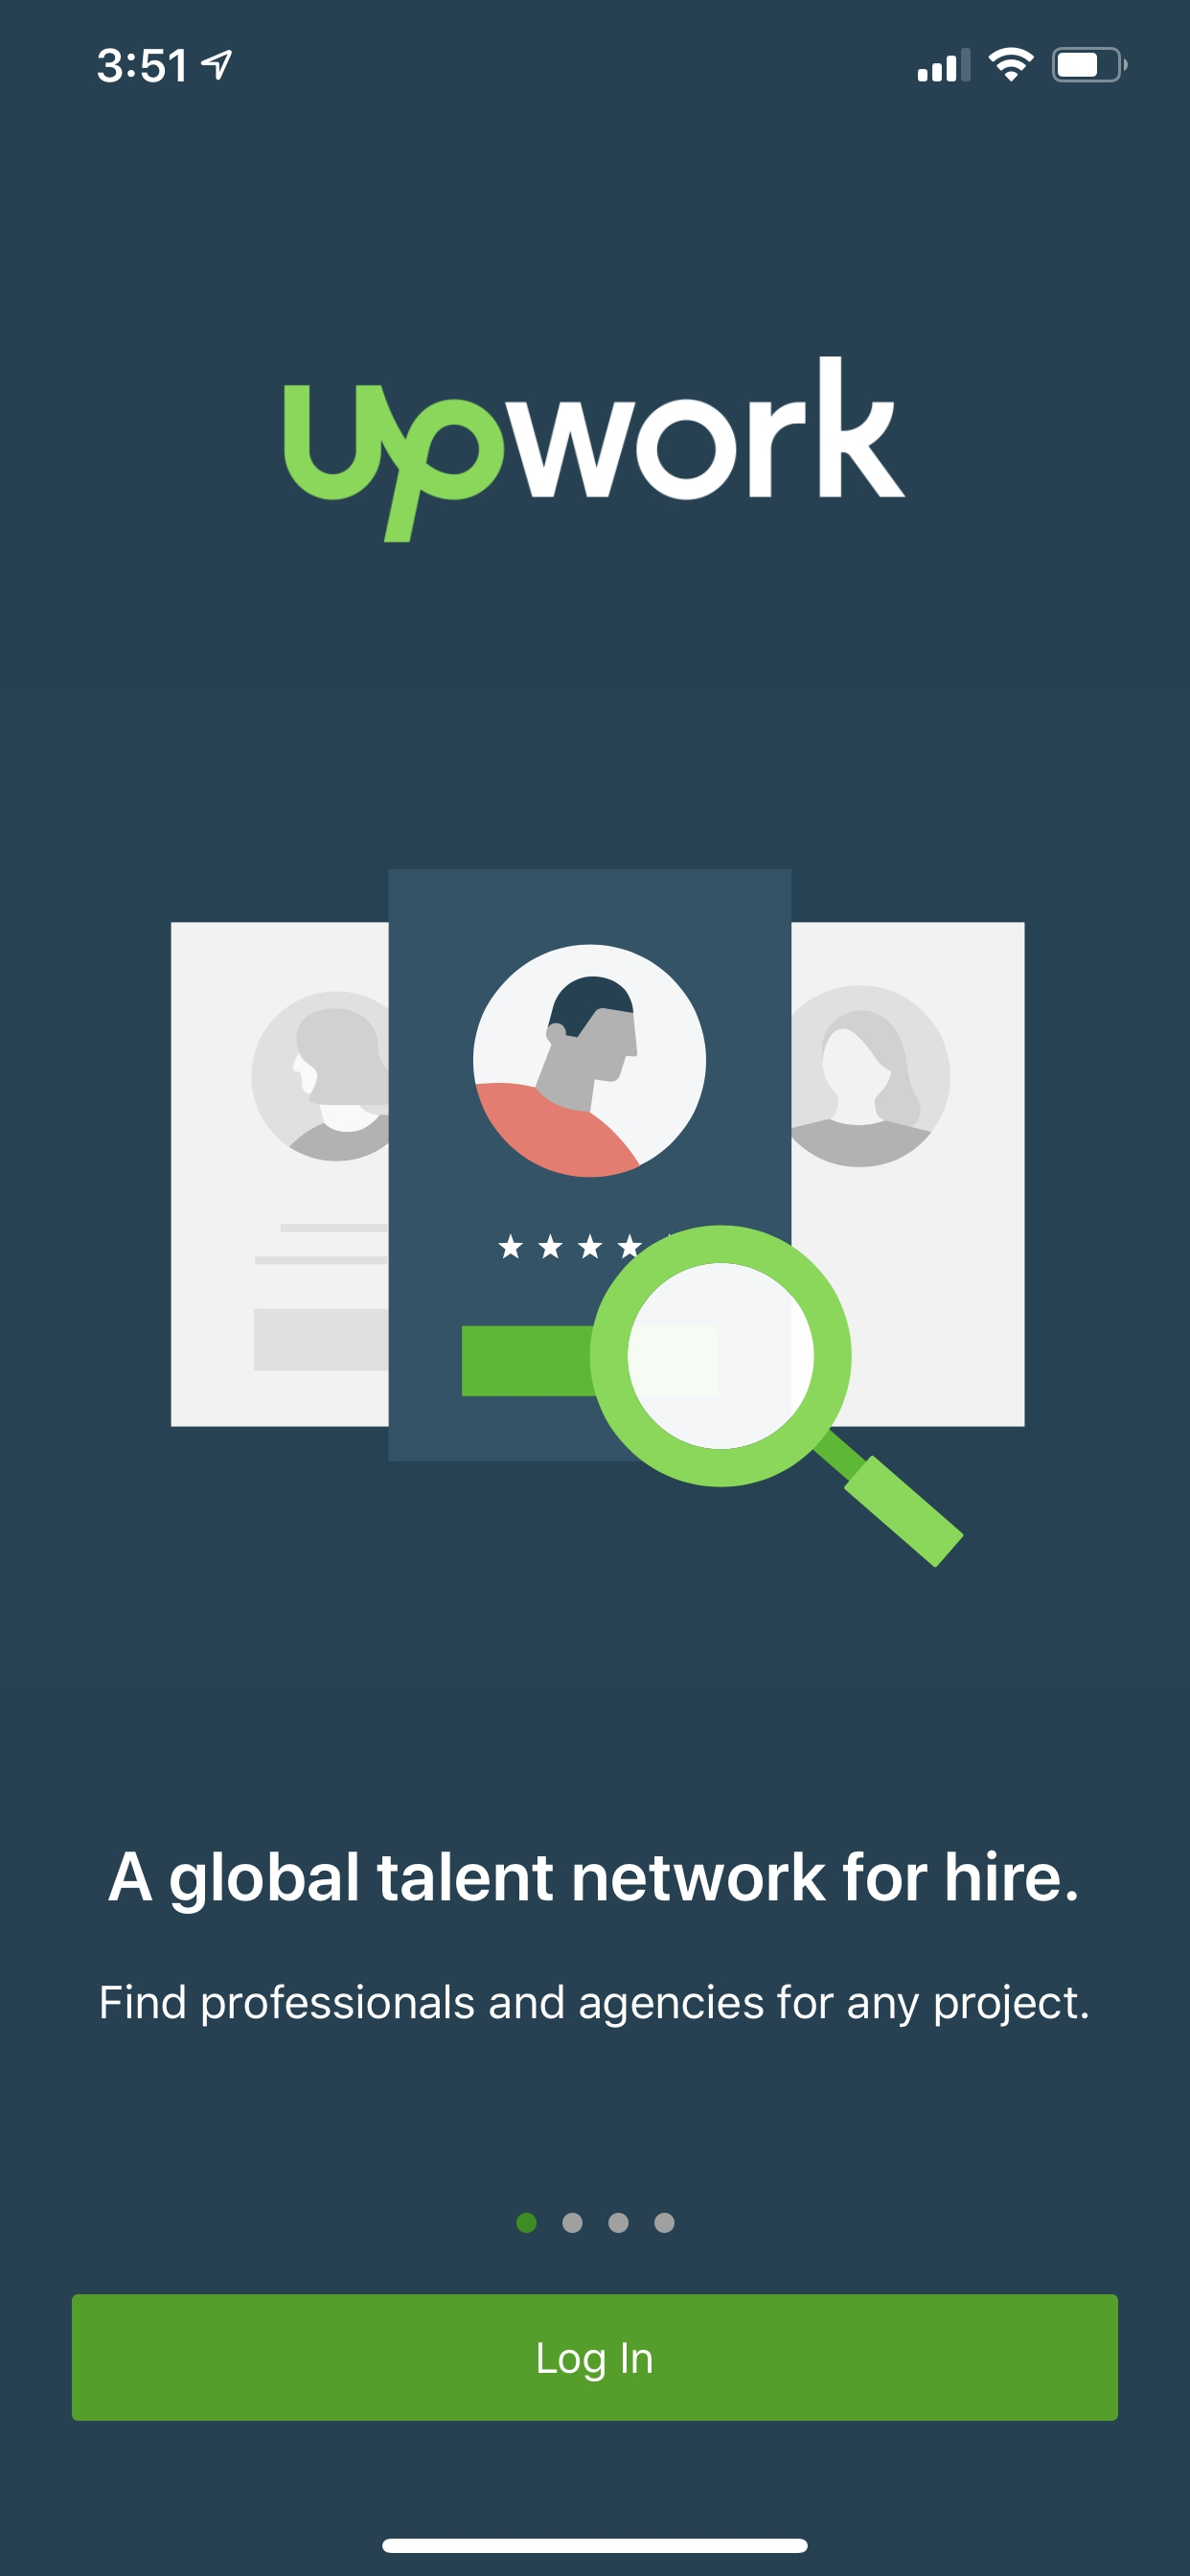Image: (171, 867, 1026, 1567), (284, 356, 906, 544)
PageIndicator: (516, 2211, 674, 2233)
Text: (108, 1848, 1077, 1914), (102, 1983, 1088, 2029)
TextButton: (71, 2293, 1118, 2422)
UpperTaskBar: (97, 48, 1128, 84)
